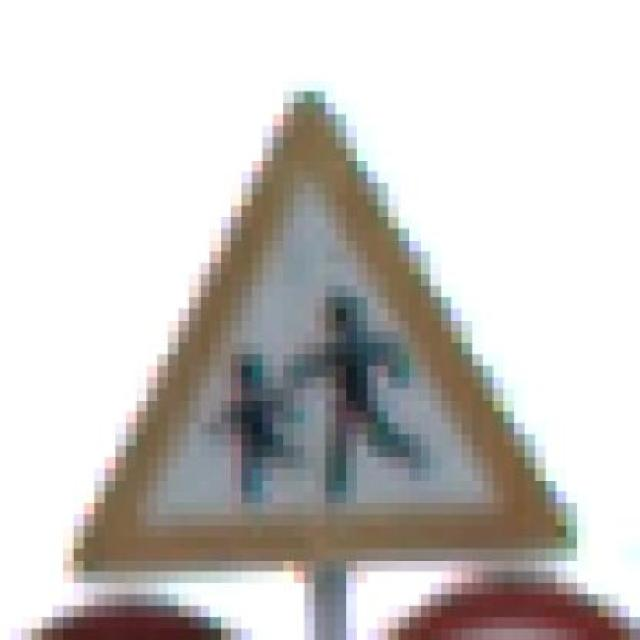Beware of children: (52, 76, 588, 578)
